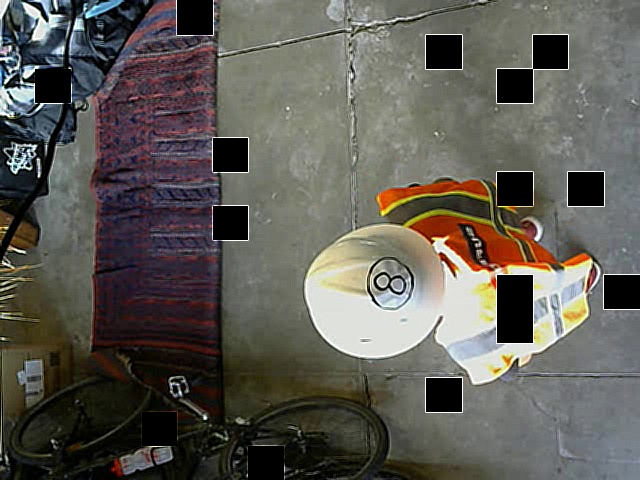eight: (366, 257, 413, 309)
